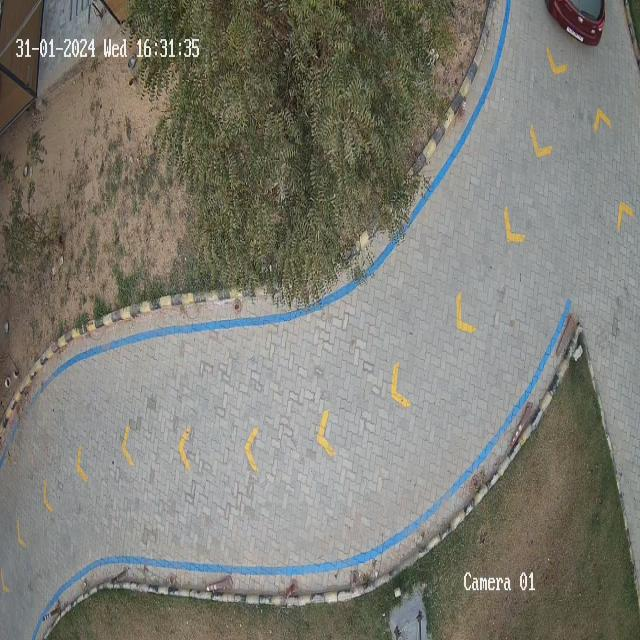car: (545, 0, 607, 48)
